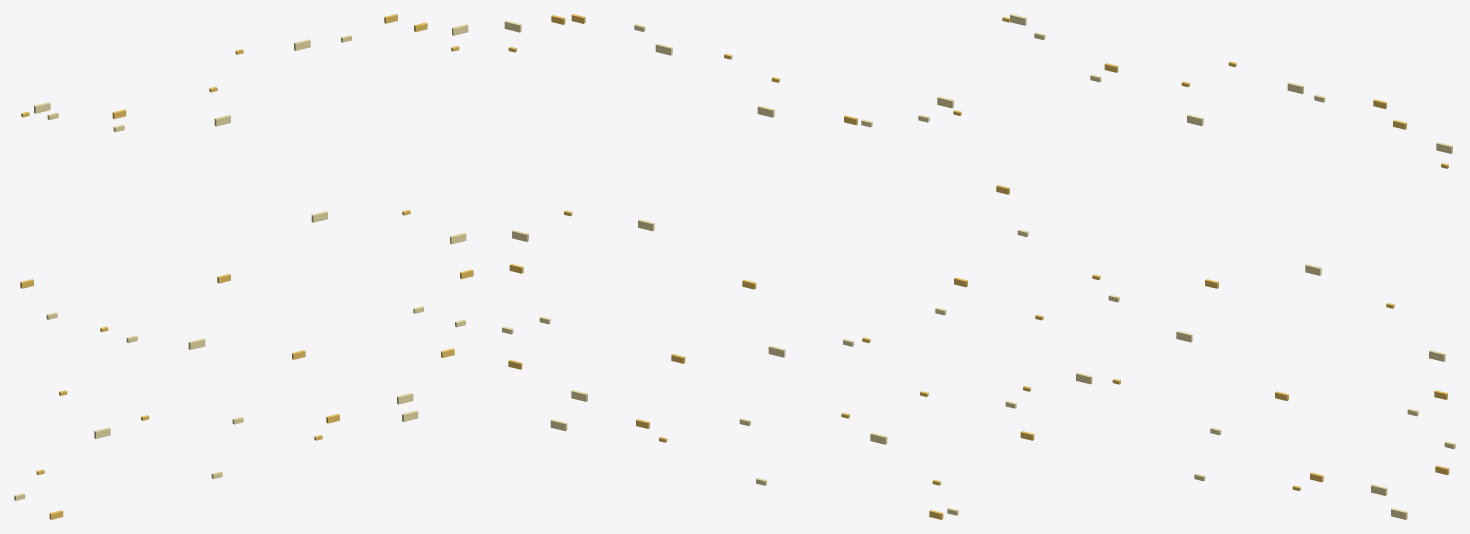
File: gold-rain.glb
3 renders of one model, left to right at view 1: azimuth 30°, elevation 25°; view 2: azimuth 150°, elevation 25°; view 3: azimuth 330°, elevation 25°, orthographic. The views are drawn at different scales.
Size of the model in its own units: 4.08 by 3.63 by 0.185.
